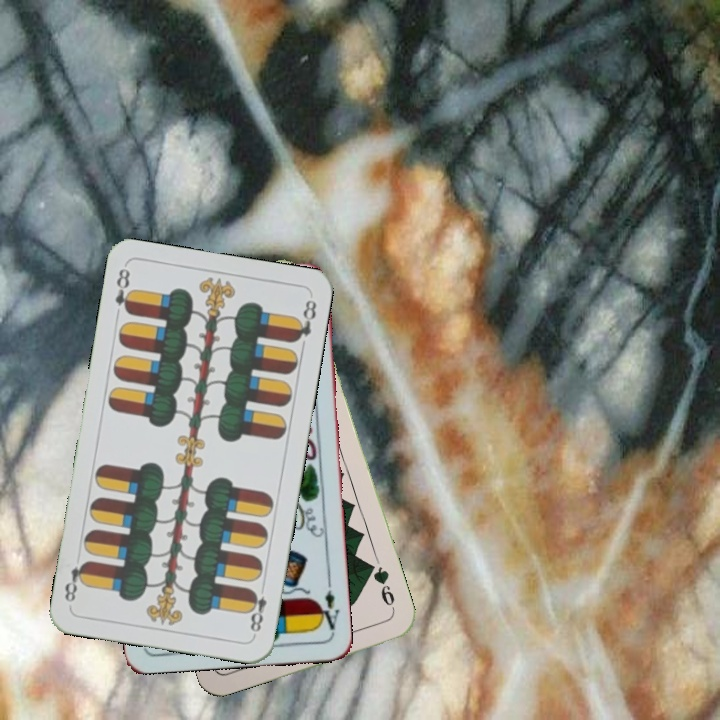E8: (244, 580, 270, 638), (111, 264, 136, 317)
EA: (314, 586, 342, 635)
G9: (364, 560, 398, 616)
